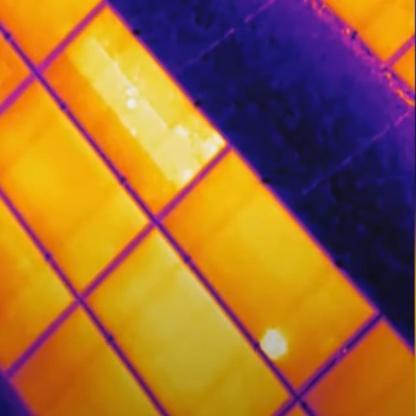anomaly: (64, 32, 226, 194), (256, 329, 295, 364)
